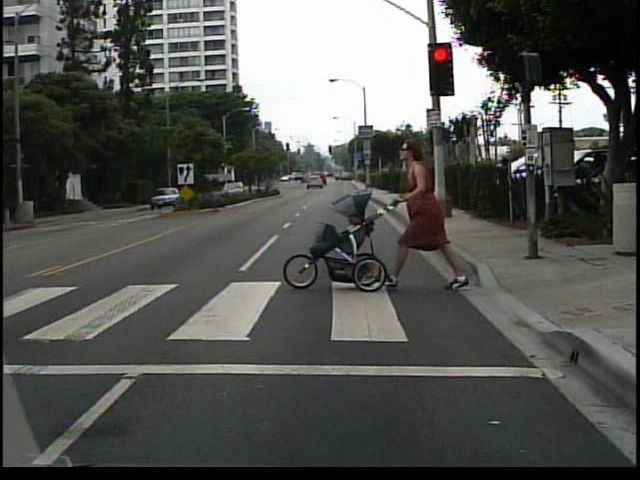person: (387, 133, 478, 295)
